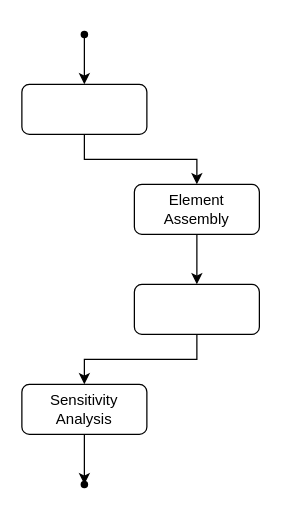
Some shapes in this 281 by 519 pixel diagram are drawn without their labels. Each missing label, with the box of its shape:
Global Assembly: (133, 283, 259, 334)
Perform FEA: (21, 83, 147, 134)
